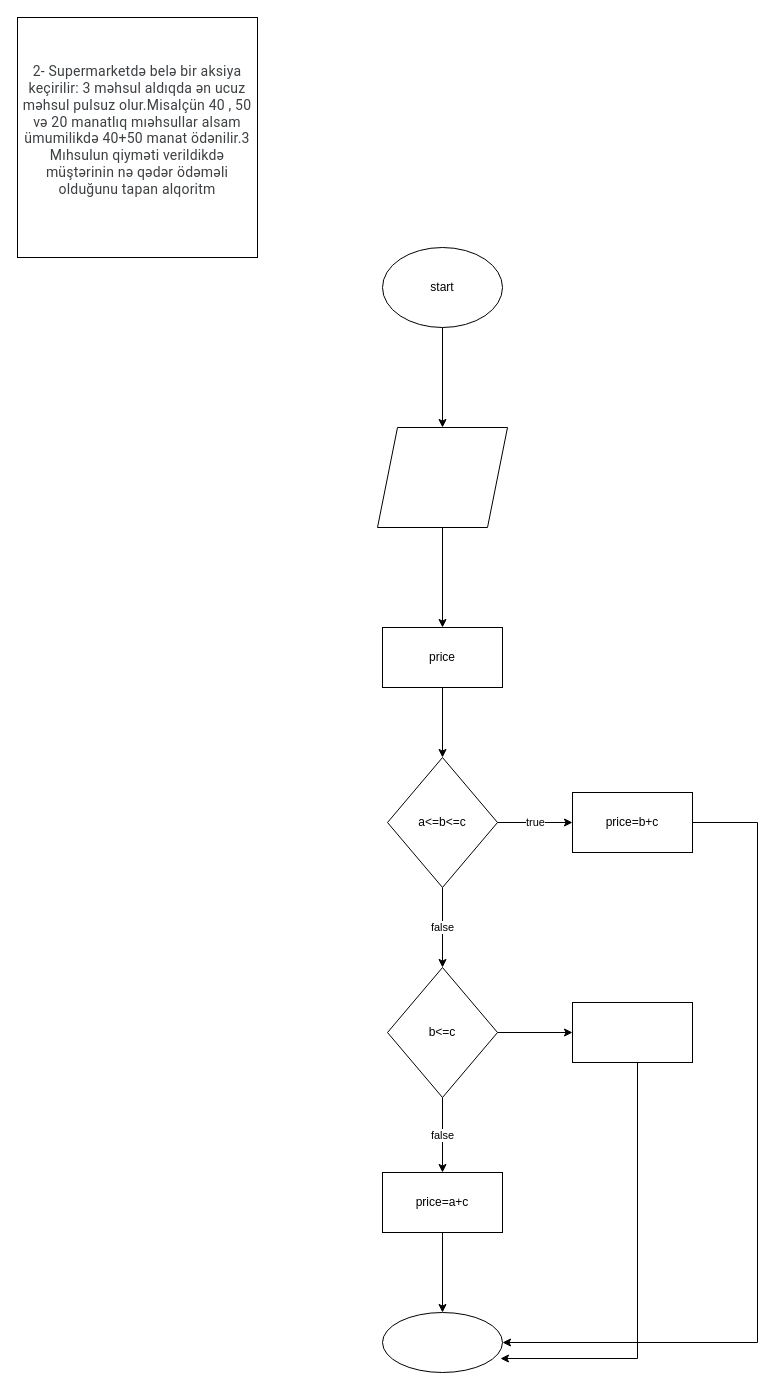
Some shapes in this 783 by 1390 pixel diagram are drawn without their labels. The shapes that lost their labels are listed below. From the top down, each one's centre as x and y in pixels, then its label:
At [442,477]: "a,b,c".
At [632,1032]: "price=a+b".
At [442,1342]: "end".
